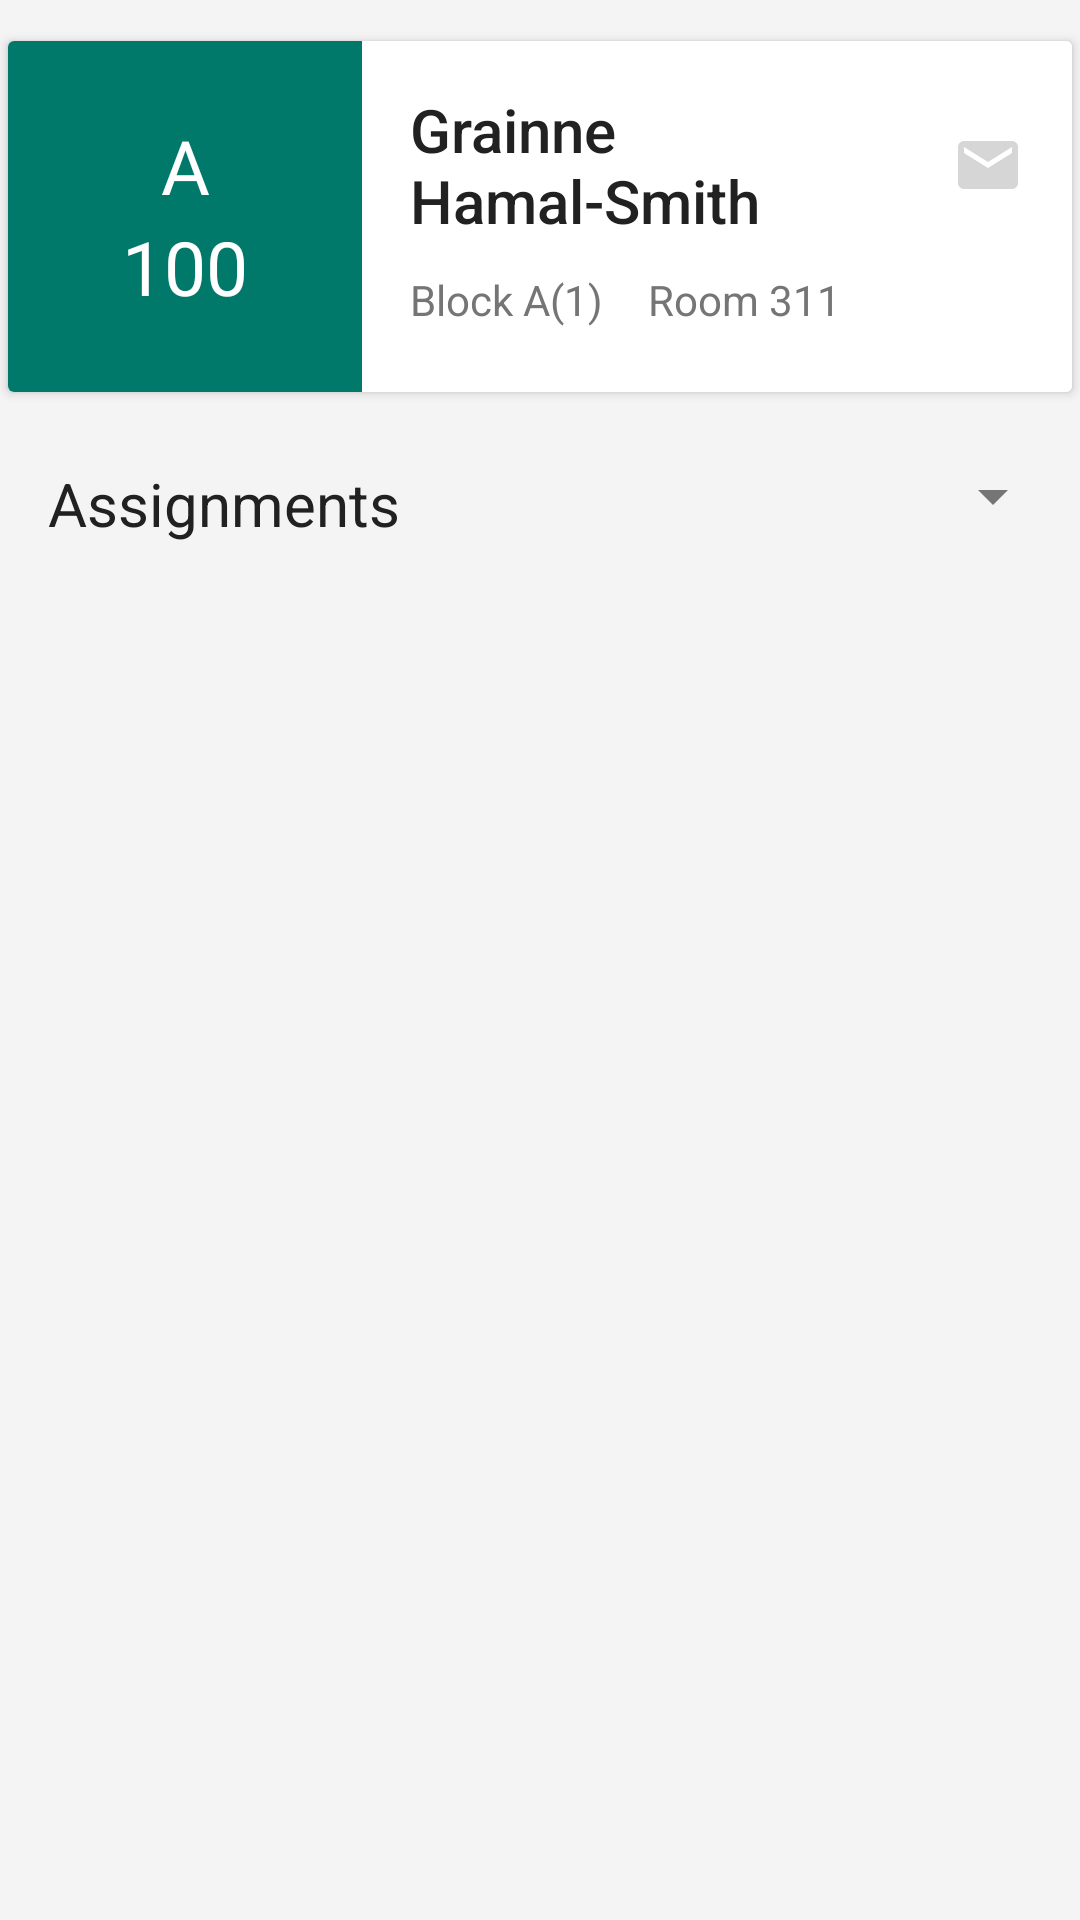

Icon click points for this 1080x1920 phone screenshot, format (x,y):
email: (988,165)
